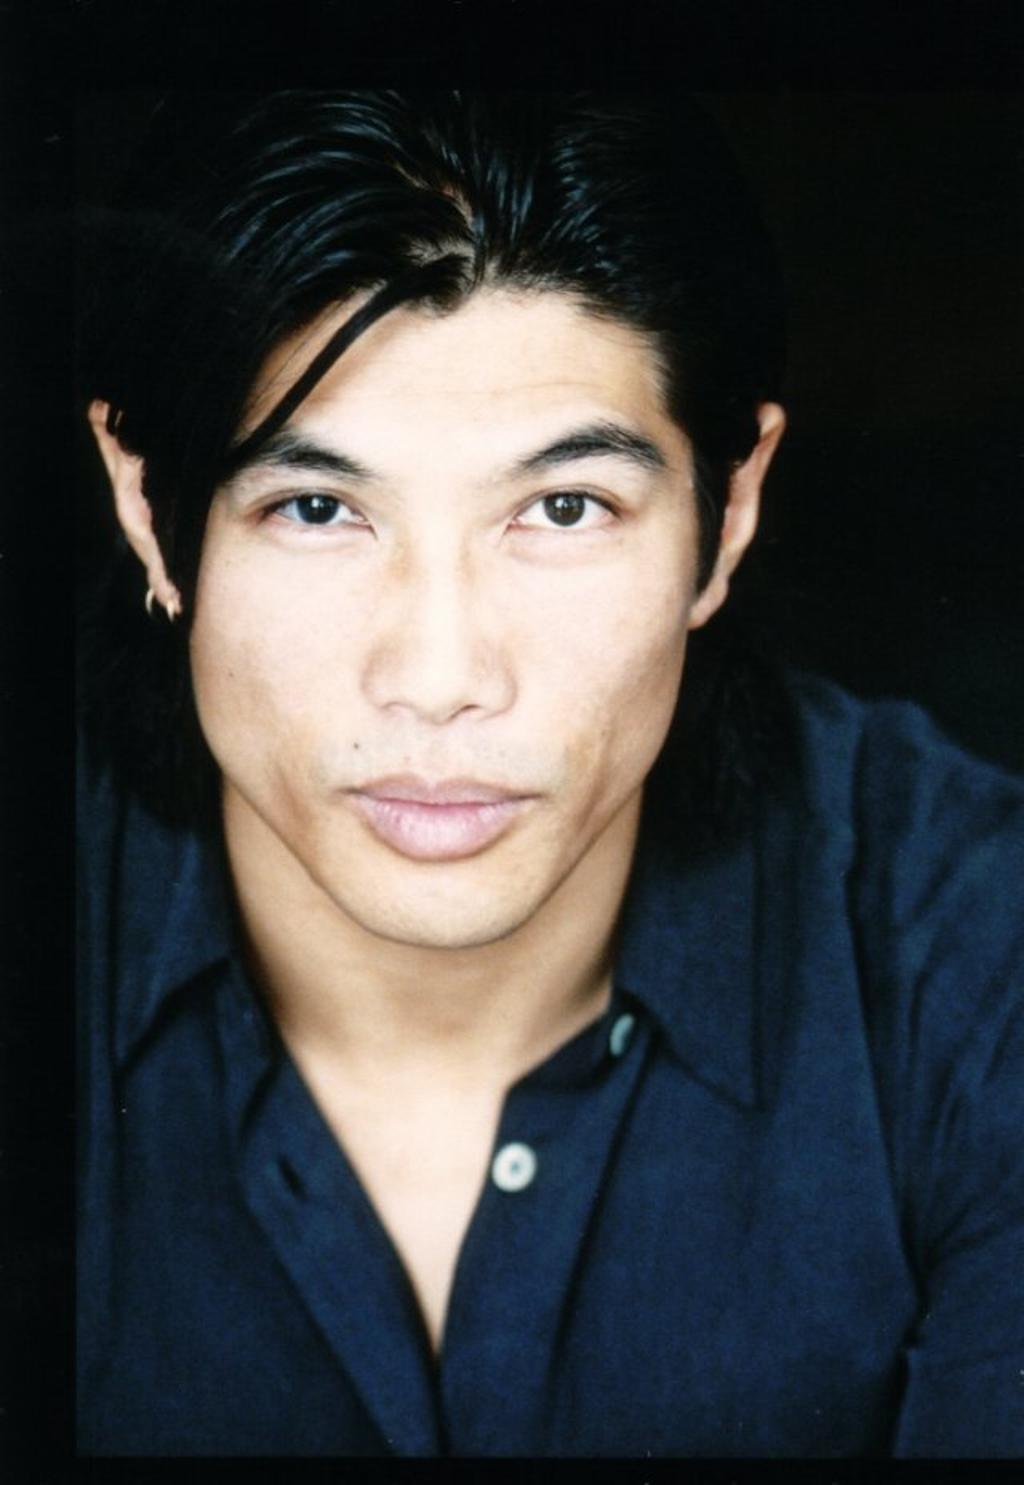face: (189, 267, 697, 937)
